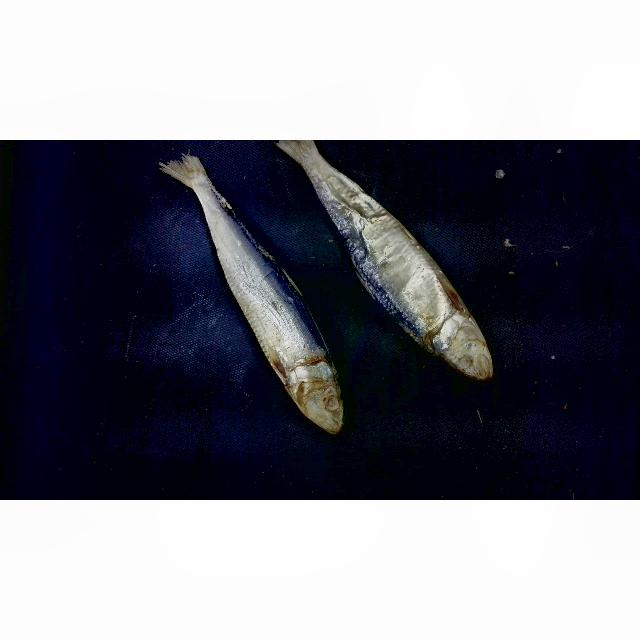Grade_A_Body: (327, 212, 482, 316), (210, 262, 347, 361)
Grade_A_Head: (409, 317, 506, 380), (272, 370, 356, 439)
Grade_A_Tail: (155, 150, 282, 259), (266, 140, 389, 205)
